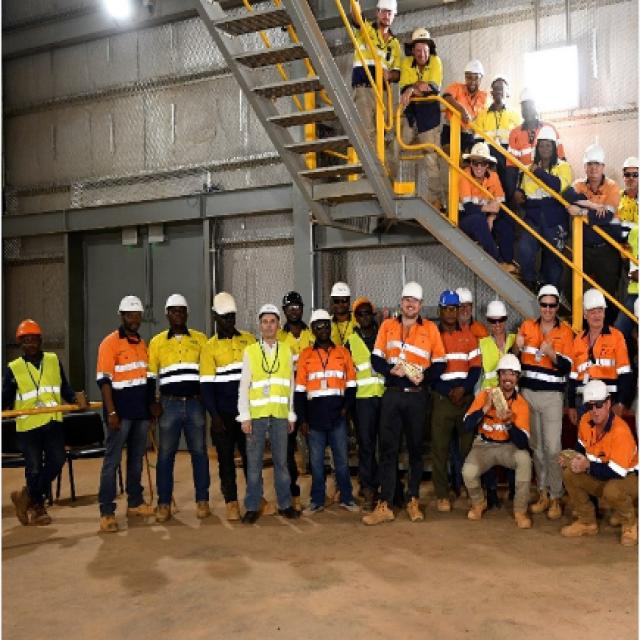boots: (10, 483, 56, 529), (464, 499, 534, 529), (98, 499, 159, 533), (558, 521, 640, 545), (362, 496, 426, 526), (221, 491, 278, 523), (433, 486, 489, 512), (155, 499, 215, 523), (240, 504, 304, 526), (531, 487, 564, 522)
helmet: (210, 290, 240, 336), (580, 380, 611, 424), (13, 318, 44, 357), (581, 286, 607, 329), (117, 295, 144, 335), (580, 144, 606, 183), (496, 352, 523, 389), (164, 293, 190, 330), (437, 288, 461, 326), (400, 281, 424, 318), (307, 310, 333, 344), (537, 284, 561, 320), (256, 304, 280, 339), (350, 296, 375, 329), (484, 300, 508, 334), (536, 125, 558, 162), (280, 294, 304, 326), (454, 286, 474, 322), (619, 156, 640, 190), (373, 0, 399, 27), (464, 59, 484, 94), (330, 280, 350, 313)
vest: (373, 316, 446, 386), (202, 332, 257, 417), (514, 316, 575, 391), (461, 388, 533, 450), (576, 410, 638, 480), (575, 327, 632, 403), (397, 54, 443, 132), (246, 342, 292, 418), (351, 21, 402, 88), (504, 122, 565, 176), (431, 324, 482, 388), (272, 322, 316, 383), (350, 332, 390, 399), (172, 329, 208, 397), (458, 167, 505, 218), (472, 106, 519, 154), (480, 334, 518, 392), (328, 318, 361, 365)
